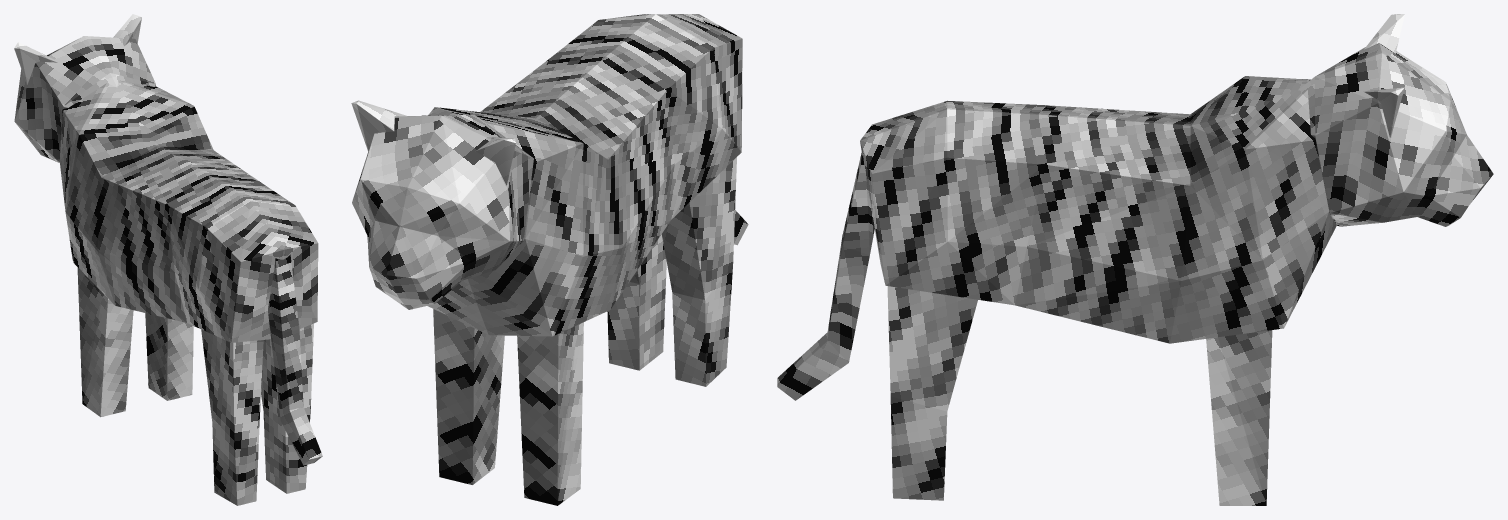
The model's file is Tiger_Tiger_White.glb.
3 views of the same model, side by side, from view 1: azimuth 30°, elevation 25°; view 2: azimuth 150°, elevation 25°; view 3: azimuth 270°, elevation 25° (orthographic). The views are drawn at different scales.
Visible parts, largest first — view 1: Body, Head, Leg3, Leg1, Leg4, Leg2; view 2: Body, Head, Leg3, Leg1, Leg2, Leg4; view 3: Body, Head, Leg4, Leg2.
Boxes of the visible parts, left/top/right/bottom form: Body: left=59, top=80, right=322, bottom=465; Head: left=14, top=14, right=155, bottom=162; Leg3: left=201, top=329, right=263, bottom=505; Leg1: left=77, top=267, right=133, bottom=417; Leg4: left=261, top=323, right=313, bottom=493; Leg2: left=145, top=313, right=193, bottom=400; Body: left=427, top=14, right=748, bottom=336; Head: left=351, top=100, right=533, bottom=309; Leg3: left=661, top=157, right=736, bottom=386; Leg1: left=517, top=322, right=583, bottom=505; Leg2: left=433, top=309, right=504, bottom=484; Leg4: left=607, top=234, right=666, bottom=370; Body: left=777, top=76, right=1336, bottom=400; Head: left=1298, top=14, right=1493, bottom=226; Leg4: left=887, top=286, right=977, bottom=500; Leg2: left=1206, top=330, right=1272, bottom=505.
Size of the model in its own units: 0.5343 by 1.29 by 1.97.
Materials: 1 (1 with a texture image).
